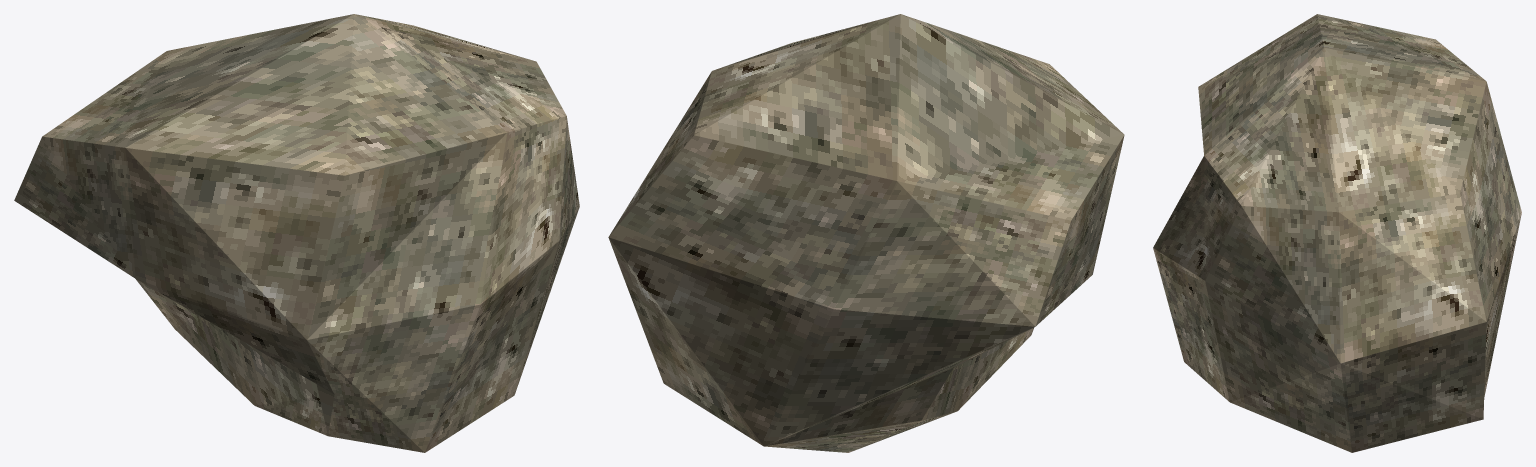
The model's file is asteroid_all_medium_01_l2.fbx.
The picture shows the model from 3 angles, left to right: view 1: azimuth 30°, elevation 25°; view 2: azimuth 150°, elevation 25°; view 3: azimuth 270°, elevation 25°; orthographic projection. The views are drawn at different scales.
Parts seen in each view (by area): view 1: mesh_node; view 2: mesh_node; view 3: mesh_node.
Part boxes in pixels (box(x1,y1,x2,y2)): mesh_node: box(14, 14, 579, 452); mesh_node: box(608, 14, 1124, 452); mesh_node: box(1153, 14, 1521, 452).
Bounding box in the file's own units: 61.49 × 54.3 × 48.02.
